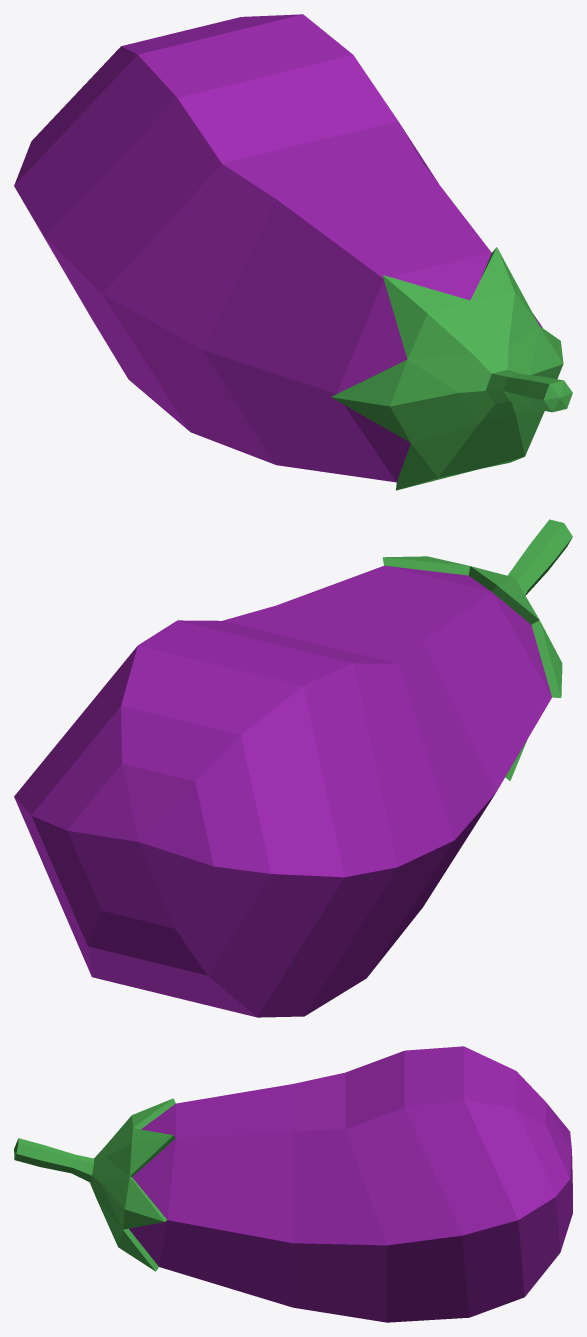
Rendered from eggplant.glb.
The picture shows the model from 3 angles, top to bottom: view 1: azimuth 30°, elevation 25°; view 2: azimuth 150°, elevation 25°; view 3: azimuth 270°, elevation 25°; orthographic projection. The views are drawn at different scales.
Parts seen in each view (by area): view 1: pasted__pCylinder1 group; view 2: pasted__pCylinder1 group; view 3: pasted__pCylinder1 group.
Boxes of the visible parts, x1=… form: pasted__pCylinder1 group: x1=14, y1=14, x2=572, y2=490; pasted__pCylinder1 group: x1=14, y1=519, x2=572, y2=1017; pasted__pCylinder1 group: x1=14, y1=1046, x2=572, y2=1322.
Bounding box in the file's own units: 51.68 × 46.8 × 107.
